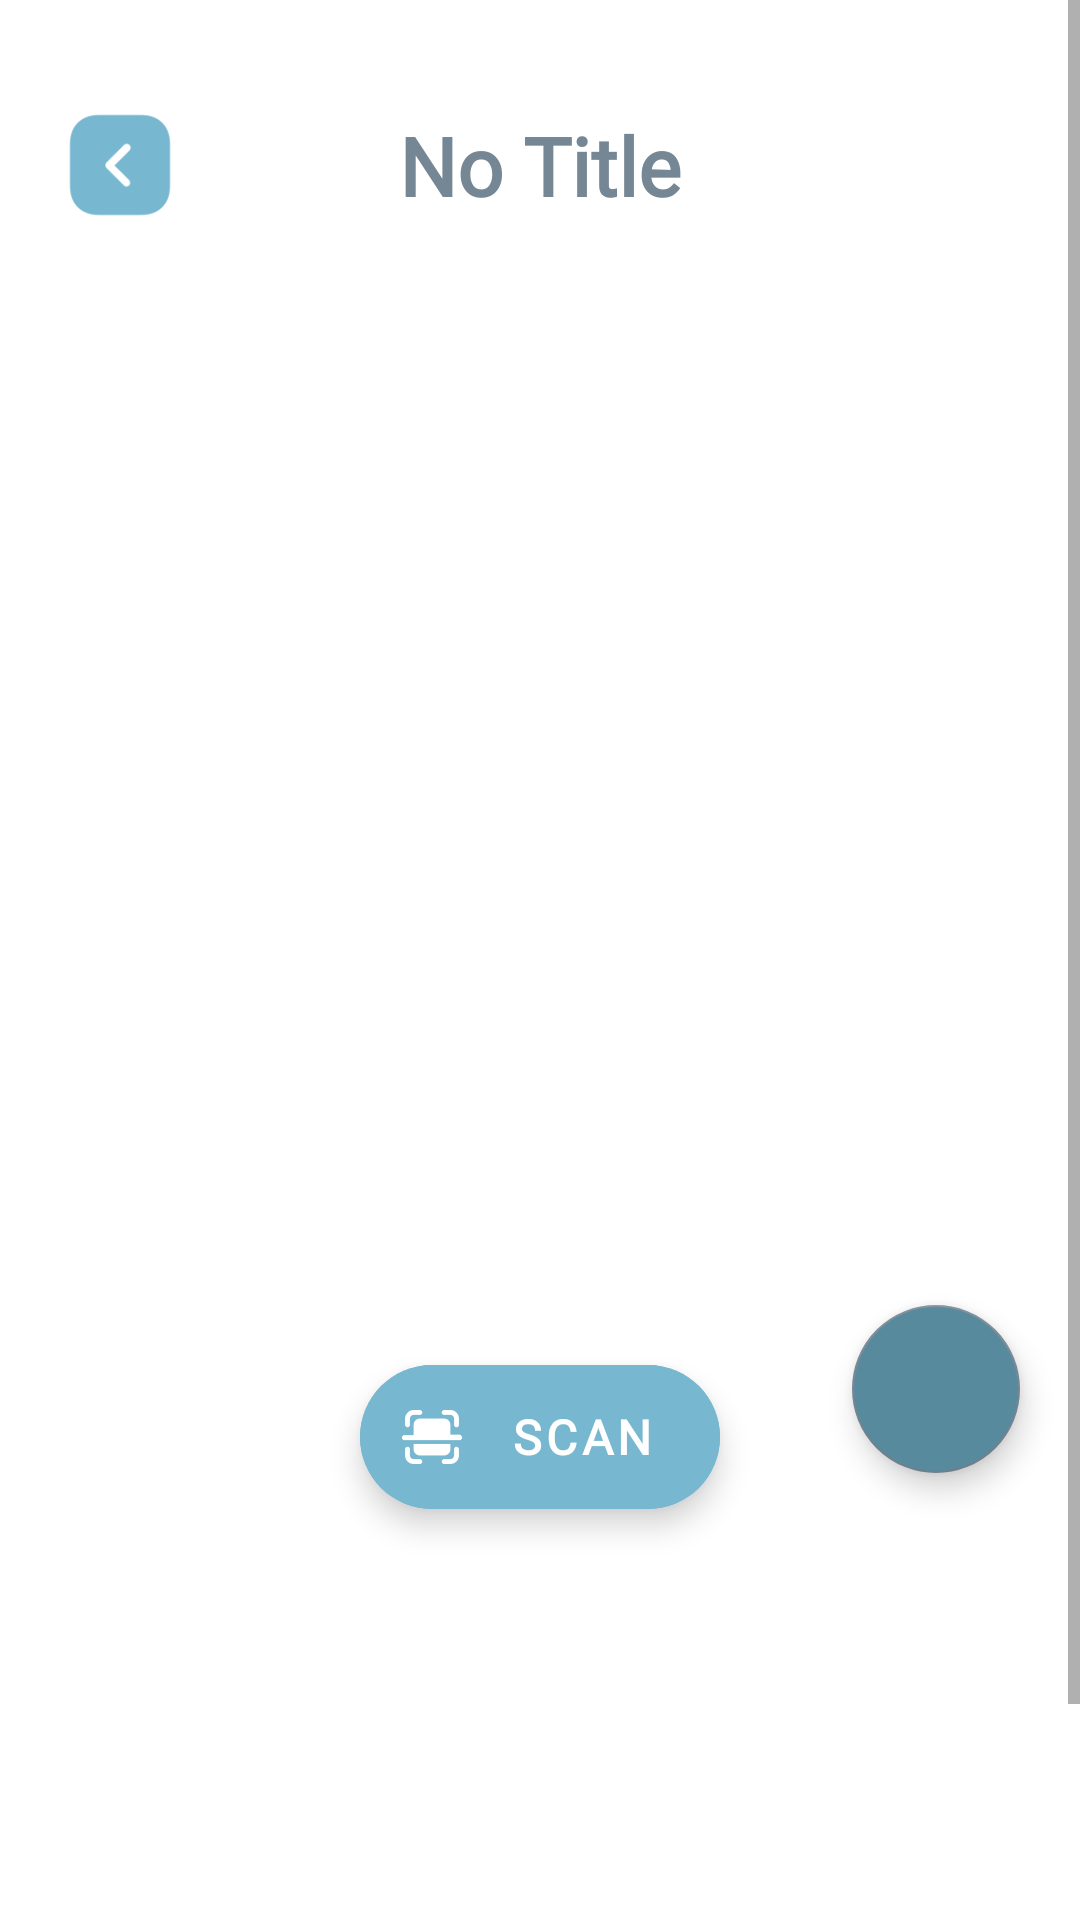

Named icons in this screenshot (1080 x 1920) and their centers, (x,y):
Back Button: (120,165)
